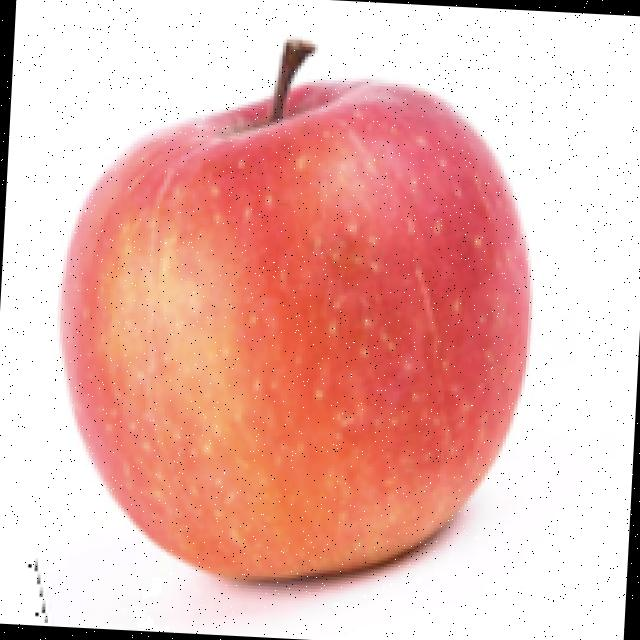apple: (53, 33, 535, 628)
